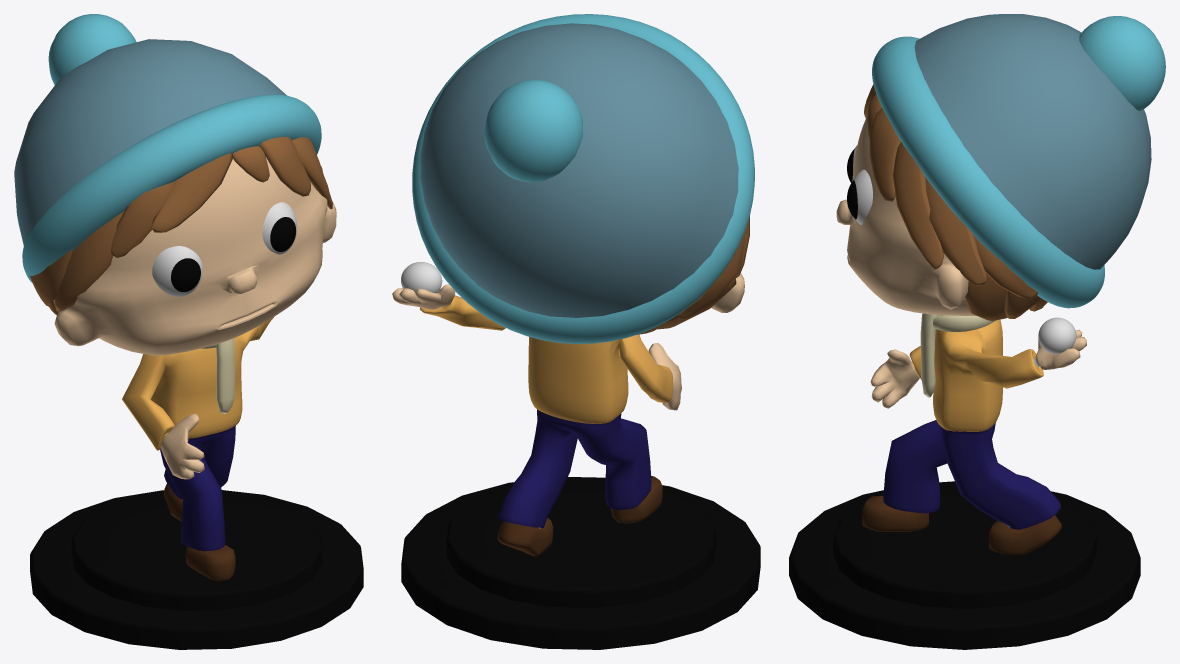
File: kid-05-2015.fbx
3 renders of one model, left to right at view 1: azimuth 30°, elevation 25°; view 2: azimuth 150°, elevation 25°; view 3: azimuth 270°, elevation 25°, orthographic. The views are drawn at different scales.
Parts seen in each view (by area): view 1: pCylinder14, polySurface4, polySurface6, polySurface1, polySurface7, polySurface5, polySurface8, polySurface13, polySurface11, polySurface9, polySurface2, eye (+6 smaller); view 2: polySurface6, pCylinder14, polySurface1, polySurface7, polySurface5, polySurface20, pSphere12, polySurface4; view 3: pCylinder14, polySurface6, polySurface1, polySurface7, polySurface4, polySurface5, polySurface10, polySurface14, polySurface9, polySurface17, polySurface16, polySurface2 (+4 smaller).
Part boxes in pixels (x1=…): pCylinder14: x1=30, y1=490, x2=363, y2=649; polySurface4: x1=54, y1=158, x2=336, y2=355; polySurface6: x1=14, y1=39, x2=286, y2=245; polySurface1: x1=122, y1=316, x2=274, y2=580; polySurface7: x1=22, y1=94, x2=321, y2=283; polySurface5: x1=48, y1=14, x2=136, y2=85; polySurface8: x1=151, y1=153, x2=232, y2=232; polySurface13: x1=54, y1=211, x2=123, y2=310; polySurface11: x1=111, y1=181, x2=174, y2=257; polySurface9: x1=259, y1=136, x2=310, y2=196; polySurface2: x1=216, y1=338, x2=234, y2=413; eye: x1=152, y1=246, x2=202, y2=296; polySurface6: x1=420, y1=23, x2=738, y2=317; pCylinder14: x1=401, y1=477, x2=760, y2=649; polySurface1: x1=392, y1=284, x2=681, y2=556; polySurface7: x1=412, y1=14, x2=754, y2=343; polySurface5: x1=484, y1=79, x2=582, y2=182; polySurface20: x1=678, y1=230, x2=745, y2=319; pSphere12: x1=401, y1=262, x2=442, y2=293; polySurface4: x1=711, y1=273, x2=744, y2=312; pCylinder14: x1=789, y1=481, x2=1140, y2=649; polySurface6: x1=914, y1=14, x2=1151, y2=269; polySurface1: x1=862, y1=315, x2=1086, y2=554; polySurface7: x1=872, y1=36, x2=1104, y2=308; polySurface4: x1=836, y1=115, x2=976, y2=315; polySurface5: x1=1079, y1=16, x2=1165, y2=110; polySurface10: x1=892, y1=142, x2=943, y2=269; polySurface14: x1=926, y1=178, x2=987, y2=285; polySurface9: x1=869, y1=108, x2=900, y2=201; polySurface17: x1=965, y1=273, x2=1007, y2=320; polySurface16: x1=974, y1=236, x2=1037, y2=298; polySurface2: x1=920, y1=313, x2=938, y2=397.
Size of the model in its own units: 17.11 by 27.84 by 17.61.
